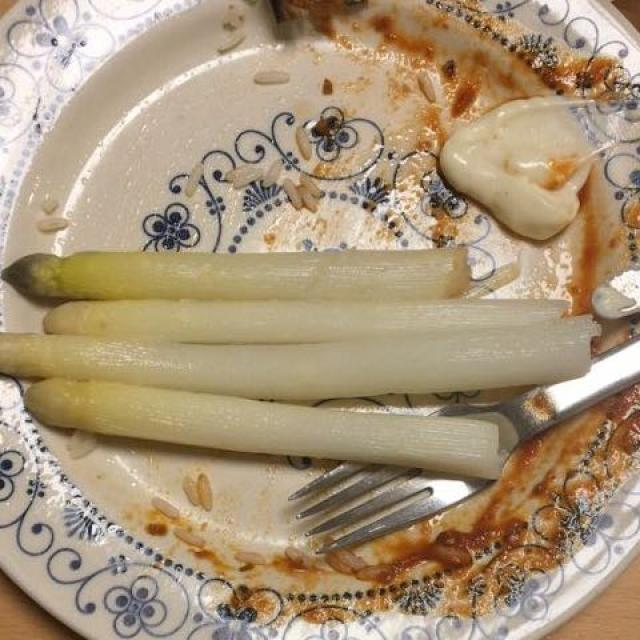asparagus: (4, 242, 596, 501)
mayonnaise: (441, 83, 631, 243)
